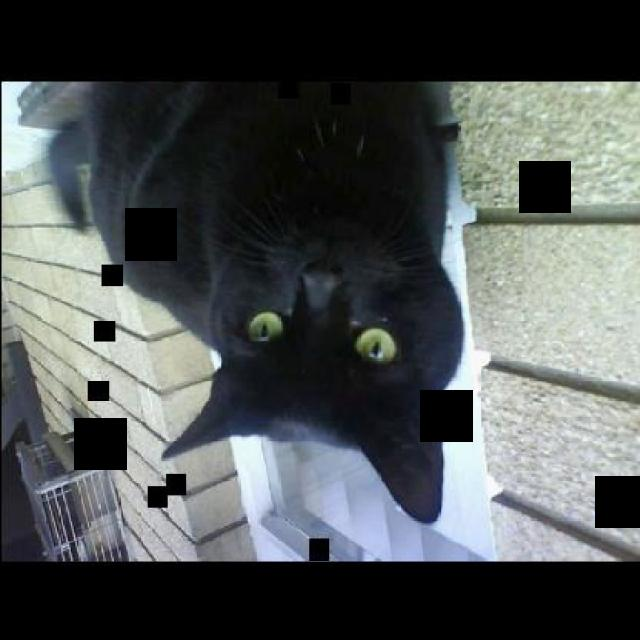unauthorized: (16, 79, 464, 523)
